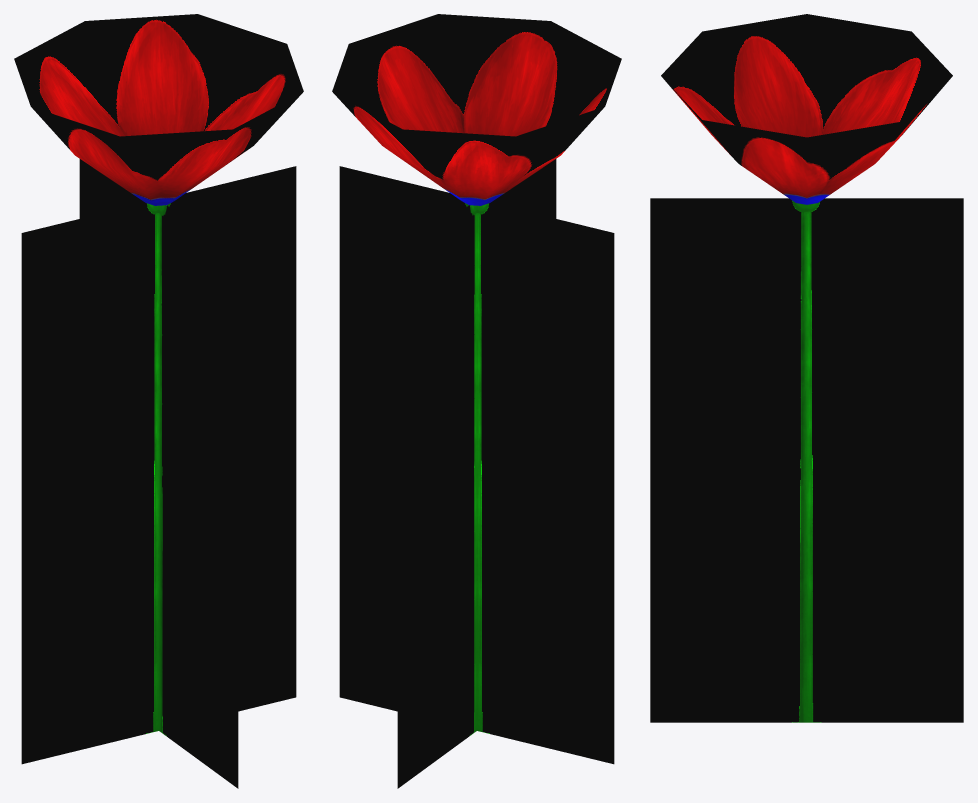
File: Flower03.fbx
3 renders of one model, left to right at view 1: azimuth 30°, elevation 25°; view 2: azimuth 150°, elevation 25°; view 3: azimuth 270°, elevation 25°, orthographic.
Visible parts, largest first — view 1: Flower03_LOD0; view 2: Flower03_LOD0; view 3: Flower03_LOD0.
Boxes of the visible parts, x1,y1,x2,y2 form: Flower03_LOD0: [14, 14, 303, 788]; Flower03_LOD0: [332, 14, 621, 788]; Flower03_LOD0: [650, 14, 963, 722].
Size of what is drawn, in the model's own units: 0.1458 by 0.3323 by 0.1458.
